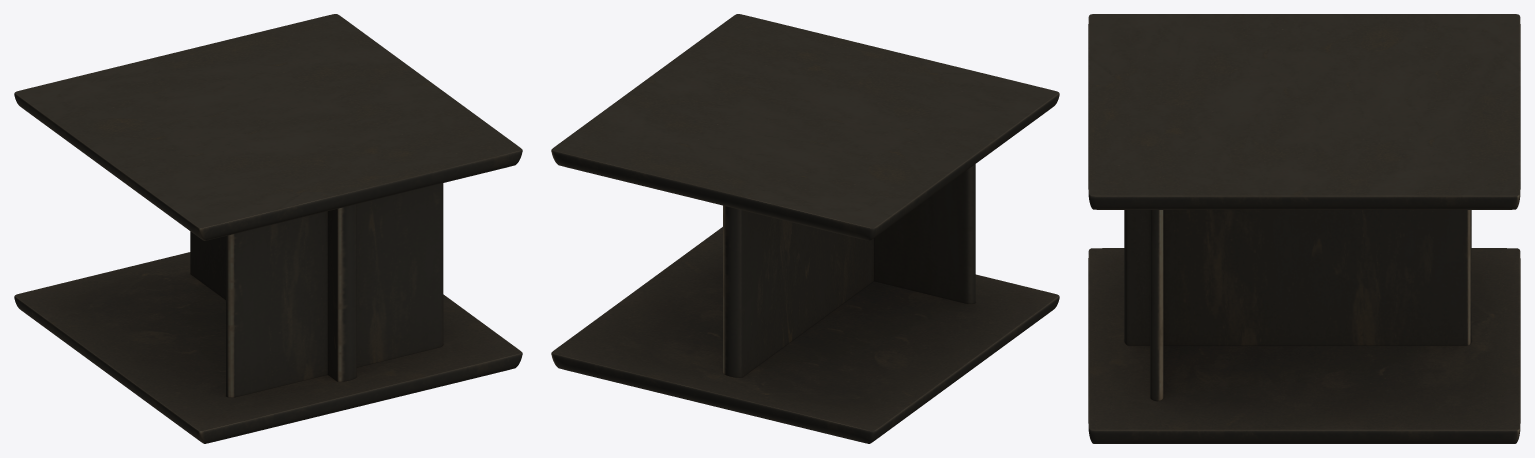
Rendered from Corner_Side_Table_03fe1a99-77a0-59d9-b761-c944072ee534.glb.
3 views of the same model, side by side, from view 1: azimuth 30°, elevation 25°; view 2: azimuth 150°, elevation 25°; view 3: azimuth 270°, elevation 25° (orthographic). The views are drawn at different scales.
Parts seen in each view (by area): view 1: raw_model.obj; view 2: raw_model.obj; view 3: raw_model.obj.
Part boxes in pixels (x1,y1,x2,y2): raw_model.obj: (14,14,522,443); raw_model.obj: (551,14,1059,443); raw_model.obj: (1088,14,1520,443).
Size of the model in its own units: 0.6634 by 0.4275 by 0.6634.
Materials: 1 (1 with a texture image).
